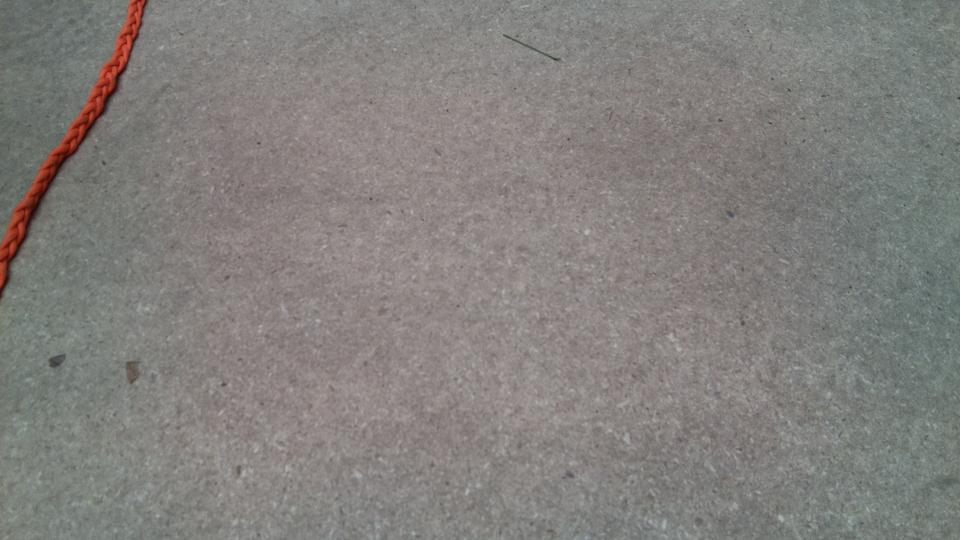rope: (1, 1, 139, 278)
